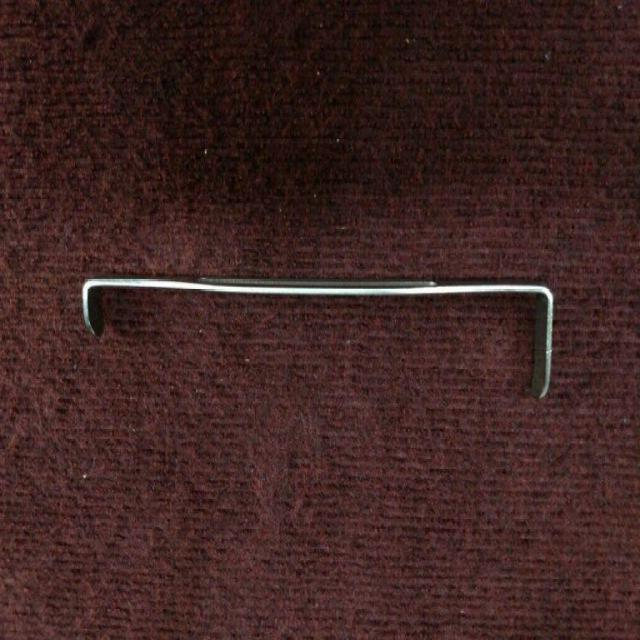Army_navy: (74, 262, 561, 411)
